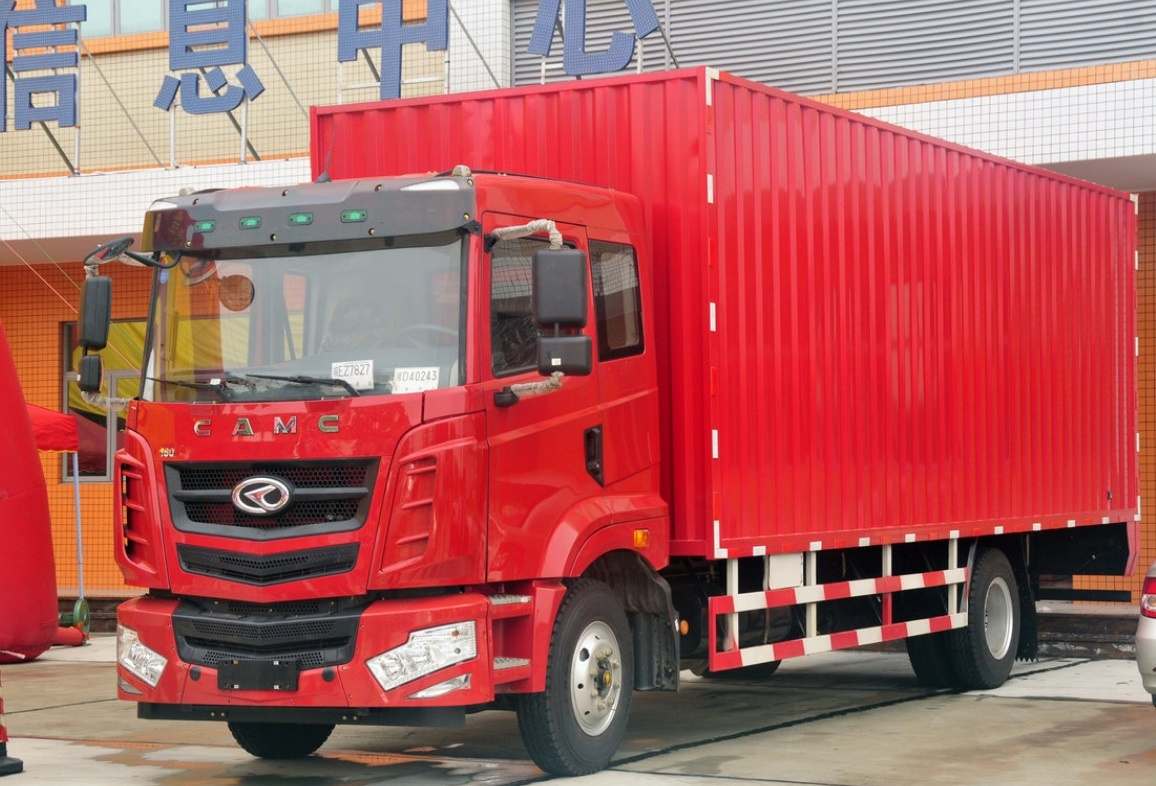heavy truck: (90, 64, 1138, 758)
